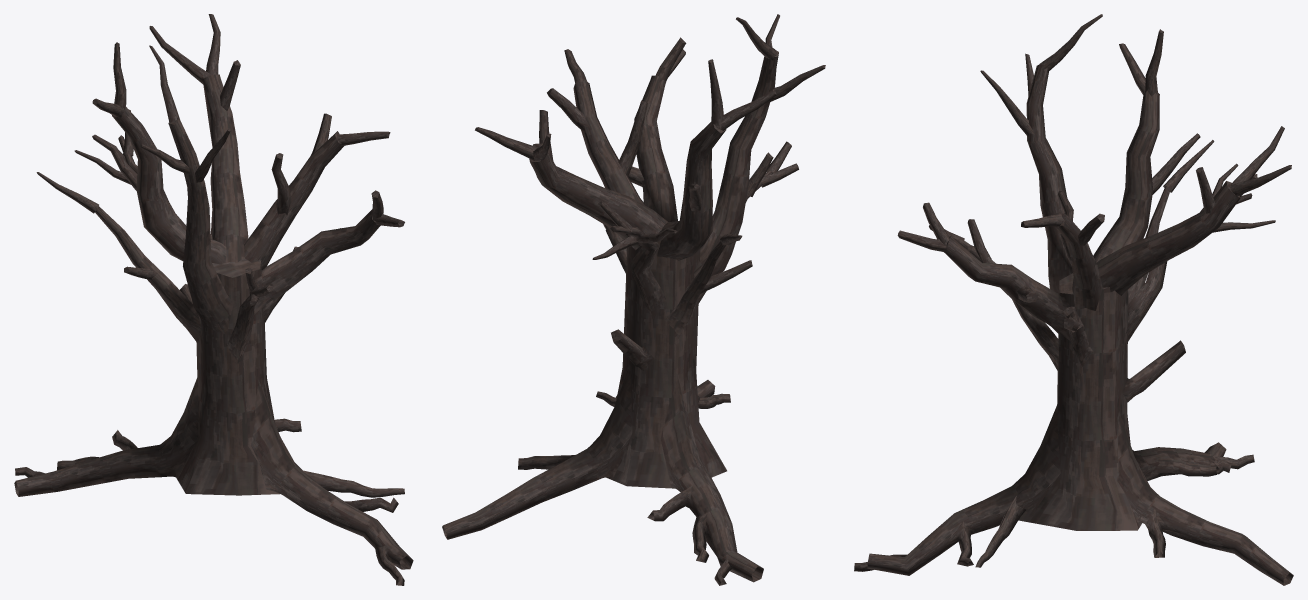
The model's file is CheckpointTREE.fbx.
The picture shows the model from 3 angles, left to right: view 1: azimuth 30°, elevation 25°; view 2: azimuth 150°, elevation 25°; view 3: azimuth 270°, elevation 25°; orthographic projection. The views are drawn at different scales.
Parts seen in each view (by area): view 1: LOD0; view 2: LOD0; view 3: LOD0.
Part boxes in pixels (bbox=[...]): LOD0: bbox=[14, 14, 413, 585]; LOD0: bbox=[442, 14, 825, 585]; LOD0: bbox=[854, 14, 1293, 585].
Size of what is drawn, in the model's own units: 663 by 1092 by 886.
